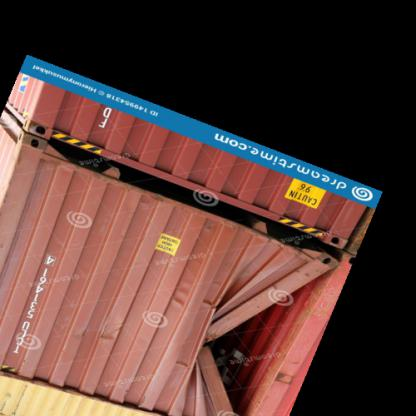Damage: (193, 249, 345, 415)
